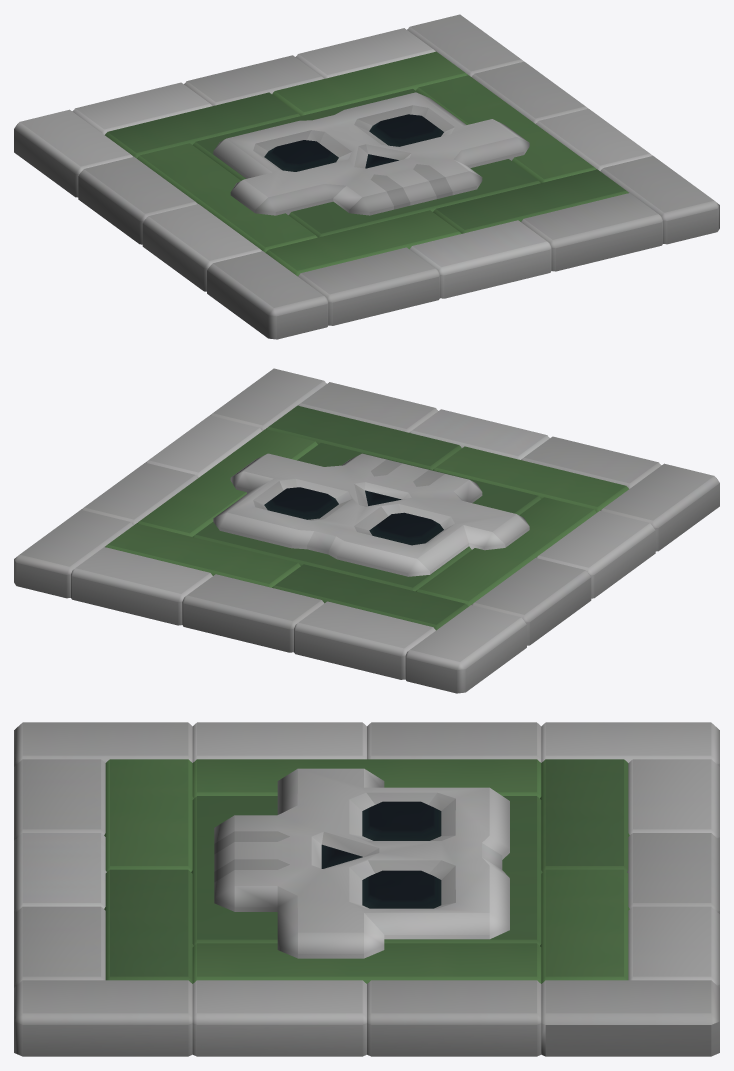
File: floor_element_green.fbx
The picture shows the model from 3 angles, top to bottom: view 1: azimuth 30°, elevation 25°; view 2: azimuth 150°, elevation 25°; view 3: azimuth 270°, elevation 25°; orthographic projection. The views are drawn at different scales.
Visible parts, largest first — view 1: floor_element_green; view 2: floor_element_green; view 3: floor_element_green.
Part boxes in pixels (left/top/right/bottom): floor_element_green: left=14, top=14, right=719, bottom=339; floor_element_green: left=14, top=368, right=719, bottom=693; floor_element_green: left=14, top=722, right=719, bottom=1056.
Bounding box in the file's own units: 405 × 42 × 405.
